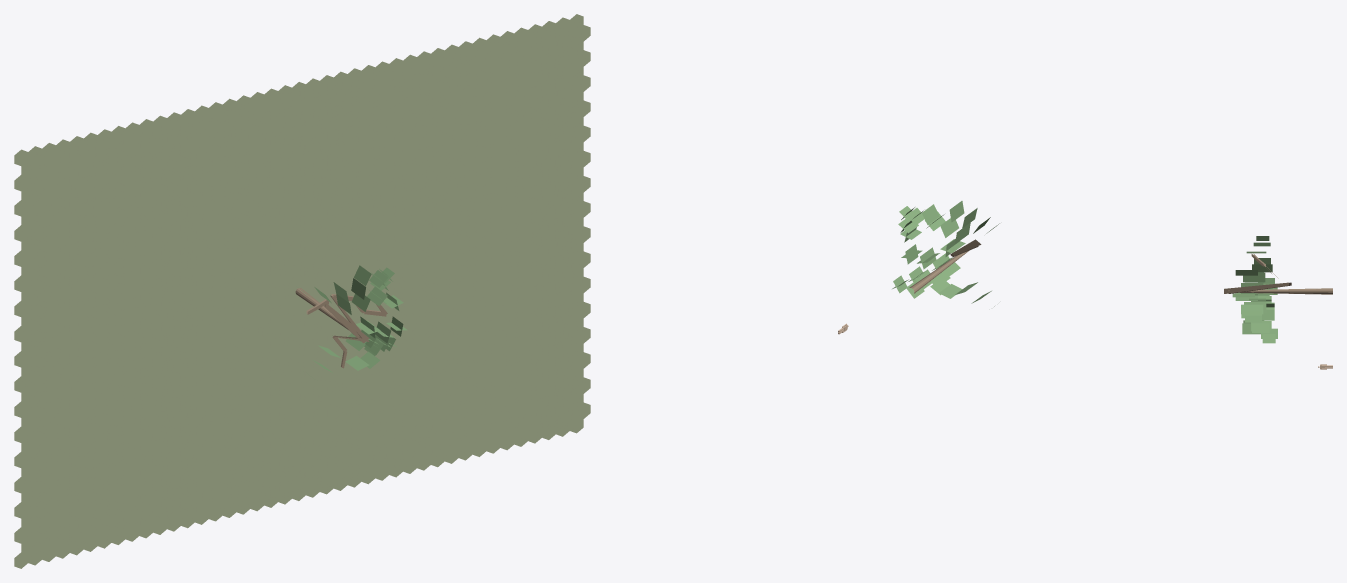
The model's file is tree.glb.
3 views of the same model, side by side, from view 1: azimuth 30°, elevation 25°; view 2: azimuth 150°, elevation 25°; view 3: azimuth 270°, elevation 25° (orthographic). The views are drawn at different scales.
Visible parts, largest first — view 1: ground, foliage, branches; view 2: foliage; view 3: foliage, trunk, branches.
Part boxes in pixels (x1,y1,x2,y2): ground: (14,14,590,568); foliage: (298,265,407,372); branches: (306,294,387,368); foliage: (892,201,999,306); foliage: (1232,236,1277,343); trunk: (1228,288,1332,294); branches: (1224,254,1291,293).
Bounding box in the file's own units: 71.88 × 50 × 14.61.
